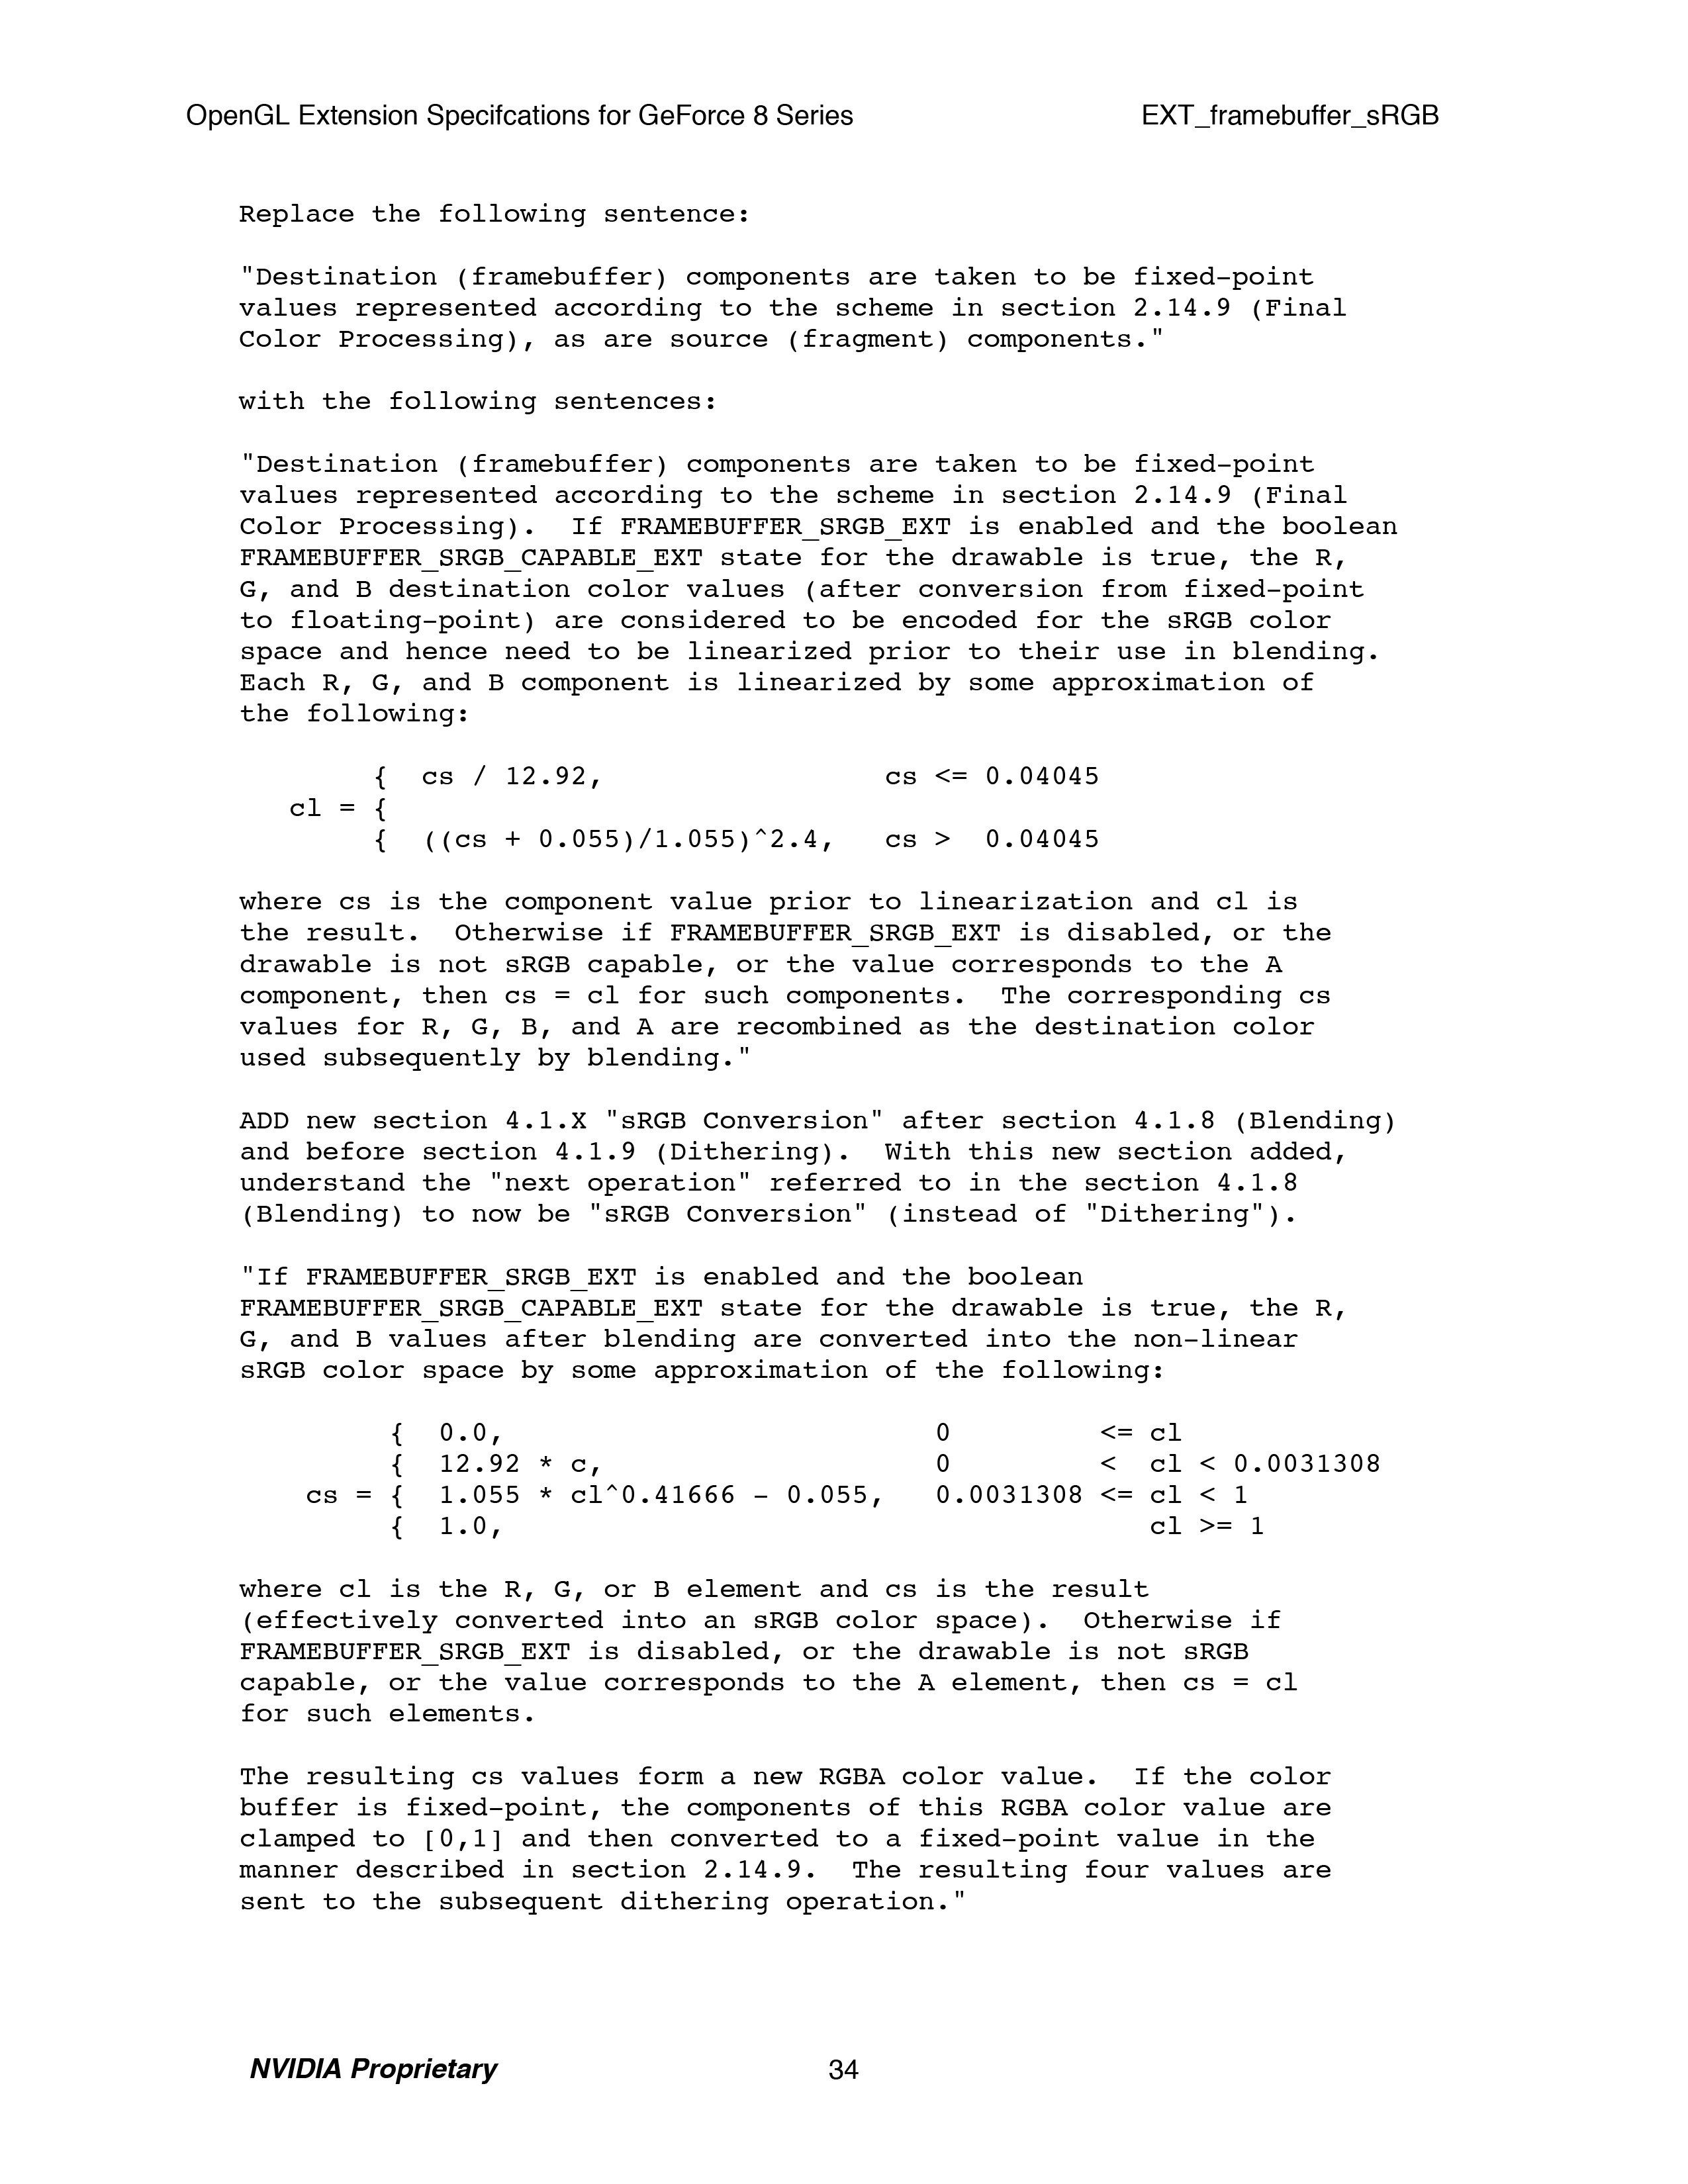text: (231, 456, 1392, 739), (232, 216, 1376, 424), (231, 886, 1339, 1072), (216, 1760, 1335, 1922), (236, 1571, 1305, 1732), (236, 1103, 1411, 1239), (307, 1418, 1392, 1544), (259, 1273, 1328, 1399), (293, 755, 1112, 862), (177, 94, 865, 147)
